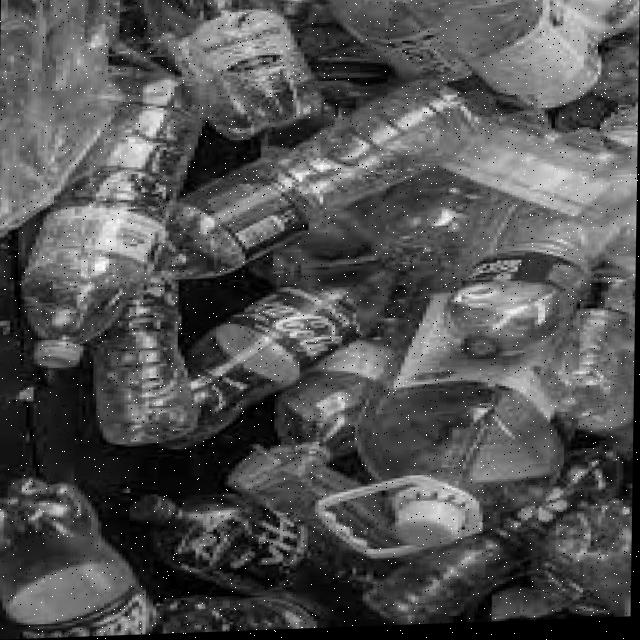bottle: (142, 60, 469, 290)
